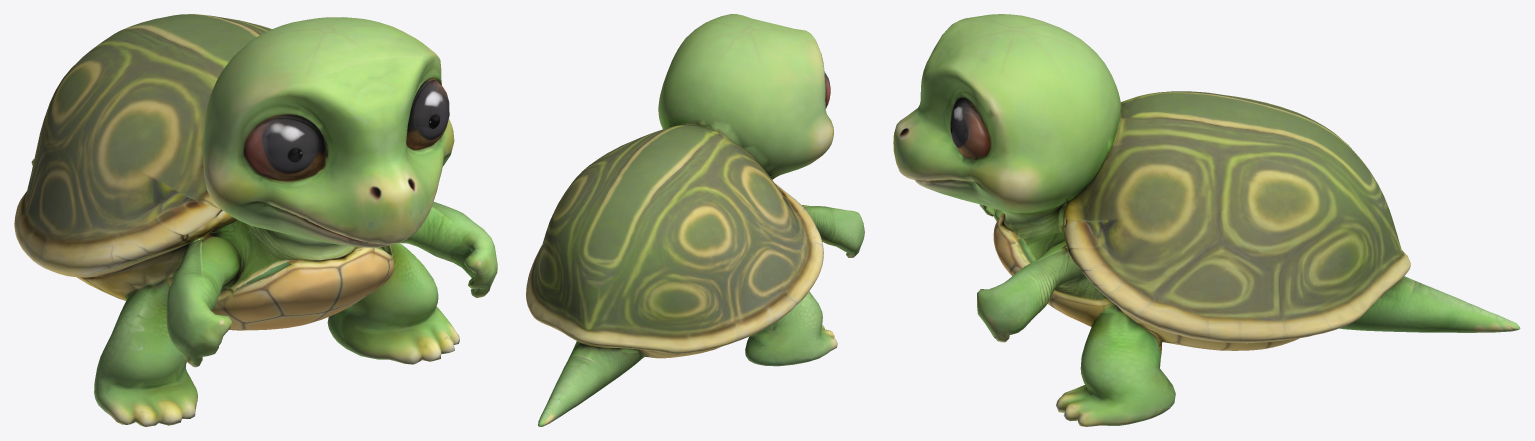
File: tortoise.glb
3 renders of one model, left to right at view 1: azimuth 30°, elevation 25°; view 2: azimuth 150°, elevation 25°; view 3: azimuth 270°, elevation 25°, orthographic. The views are drawn at different scales.
Size of the model in its own units: 1.14 by 1.17 by 2.
1 material, 1 textured.
